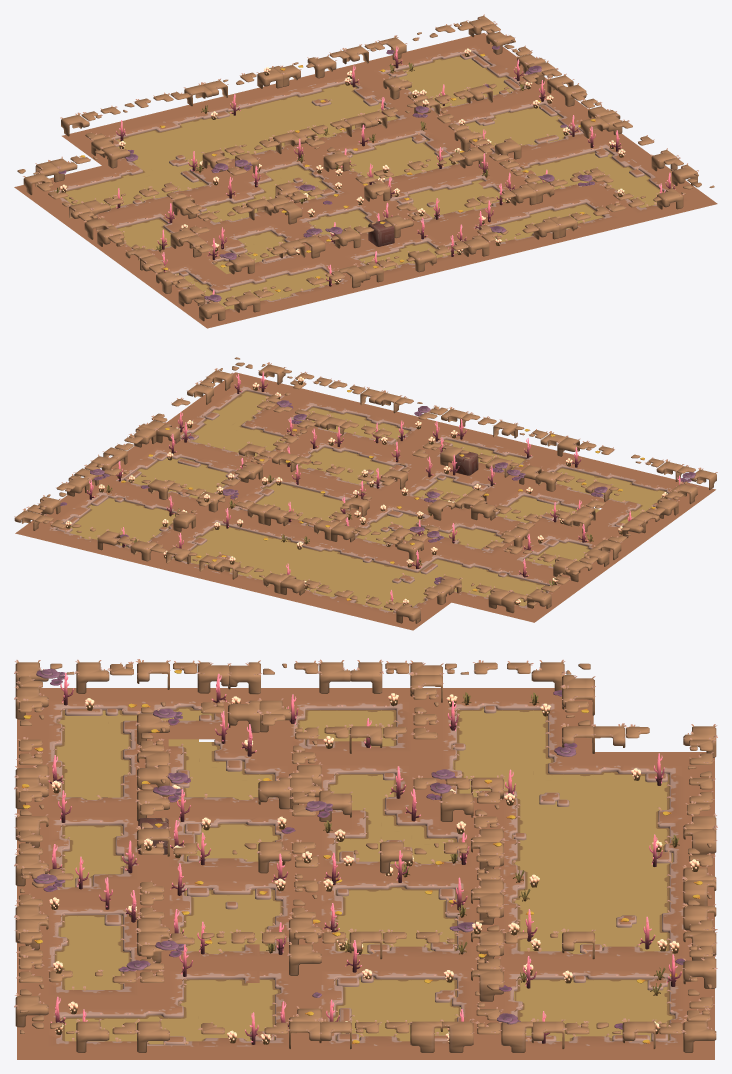
File: Map_B_b.fbx
3 views of the same model, one above another, from view 1: azimuth 30°, elevation 25°; view 2: azimuth 150°, elevation 25°; view 3: azimuth 270°, elevation 25° (orthographic). The views are drawn at different scales.
Visible parts, largest first — view 1: 平面.28932; view 2: 平面.28932; view 3: grass_03.086, grass_03.063, grass_03.054, grass_03.046, grass_03.087, grass_03.055, 平面.28944, grass_03.085, 平面.29125, 平面.29158, grass_03.062, grass_03.053 (+13 smaller).
Part boxes in pixels (x1=…): 平面.28932: x1=368, y1=220, x2=394, y2=246; 平面.28932: x1=455, y1=452, x2=478, y2=475; grass_03.086: x1=227, y1=660, x2=261, y2=694; grass_03.063: x1=682, y1=955, x2=717, y2=988; grass_03.054: x1=440, y1=1018, x2=474, y2=1052; grass_03.046: x1=439, y1=790, x2=474, y2=821; grass_03.087: x1=196, y1=660, x2=231, y2=693; grass_03.055: x1=410, y1=1019, x2=442, y2=1052; 平面.28944: x1=257, y1=776, x2=292, y2=809; grass_03.085: x1=227, y1=699, x2=262, y2=732; 平面.29125: x1=75, y1=659, x2=109, y2=693; 平面.29158: x1=75, y1=1019, x2=109, y2=1052; grass_03.062: x1=682, y1=1019, x2=716, y2=1052; grass_03.053: x1=471, y1=967, x2=504, y2=1001.
Size of the model in its own units: 5838 by 297 by 4638.
